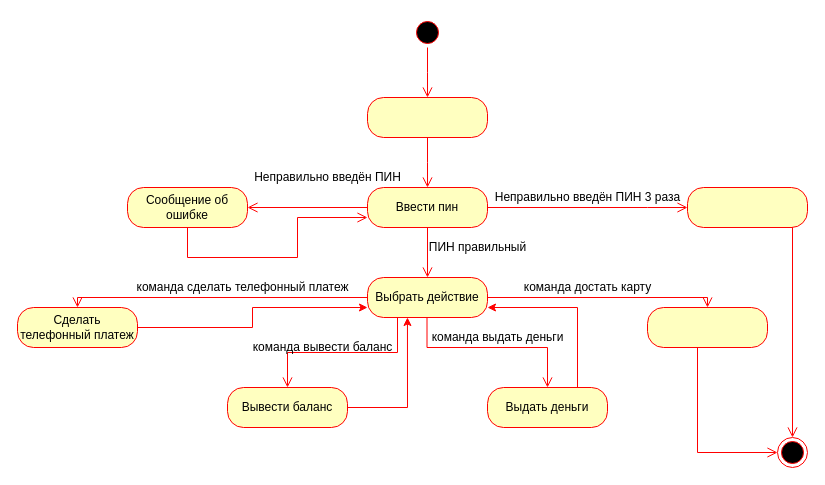
The diagram is 825 pixels wide and 485 high, and some of its shapes have lost their labels. Each missing label, with the centre of its shape:
Вставить карту: the point at 427,117
Достать карту: the point at 707,327
Заблокировать карту: the point at 747,207
